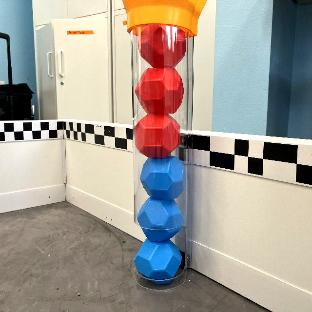V5_BLUE: (135, 239, 181, 285), (137, 198, 184, 239), (140, 156, 183, 198)
V5_RED: (136, 62, 186, 114), (135, 111, 181, 157), (138, 23, 187, 66)
